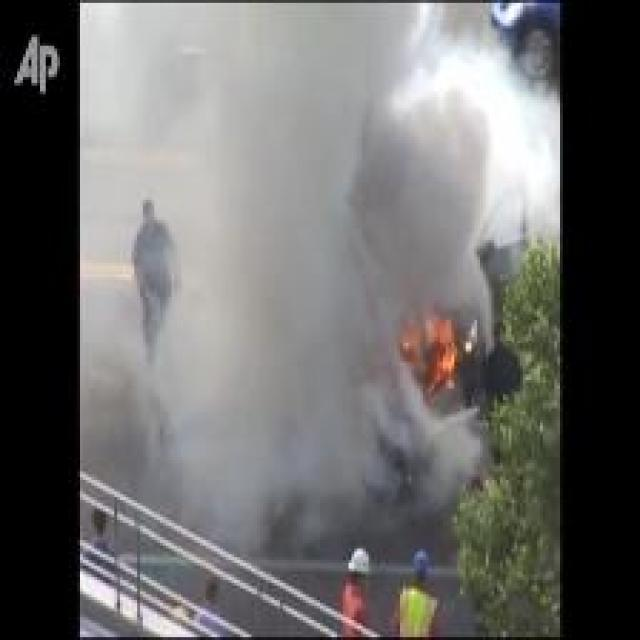Fire: (400, 303, 460, 388)
